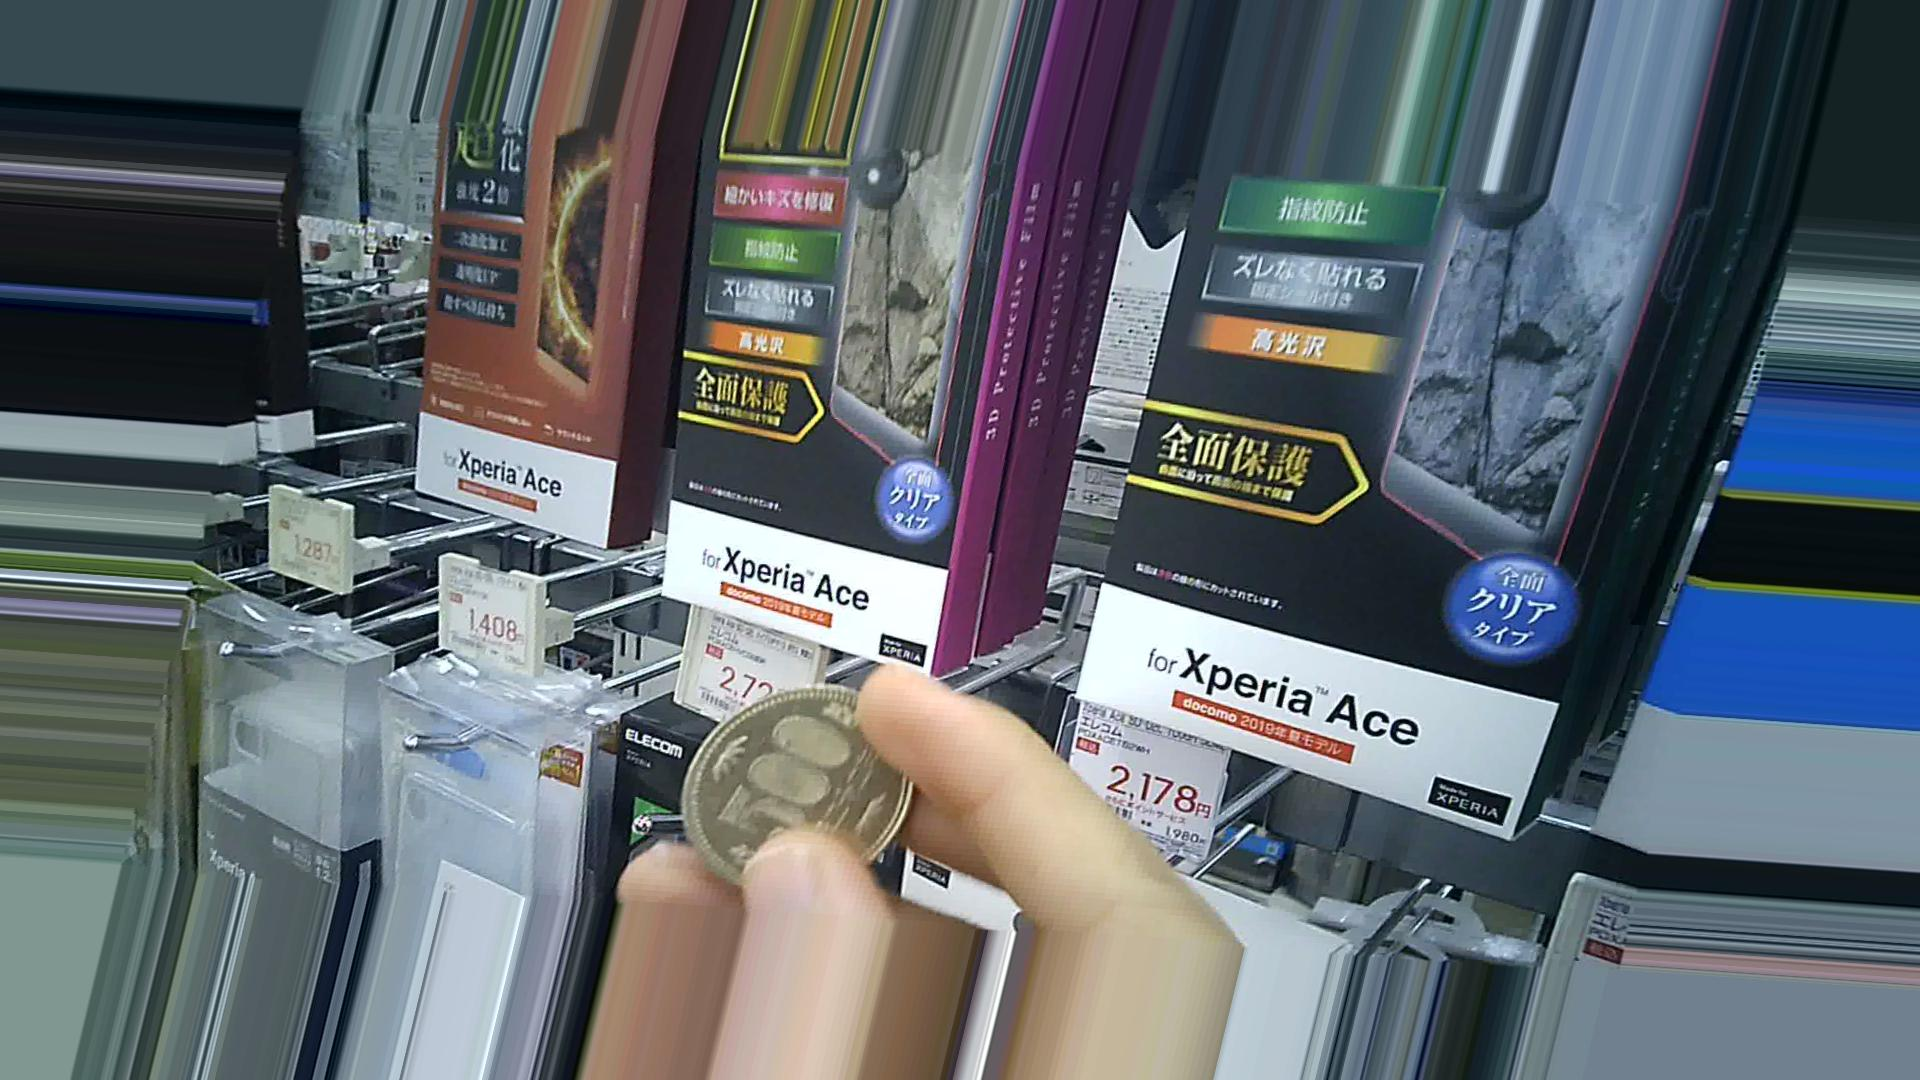500 Yen: (676, 674, 938, 882)
